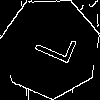L: (25, 23, 77, 66)
